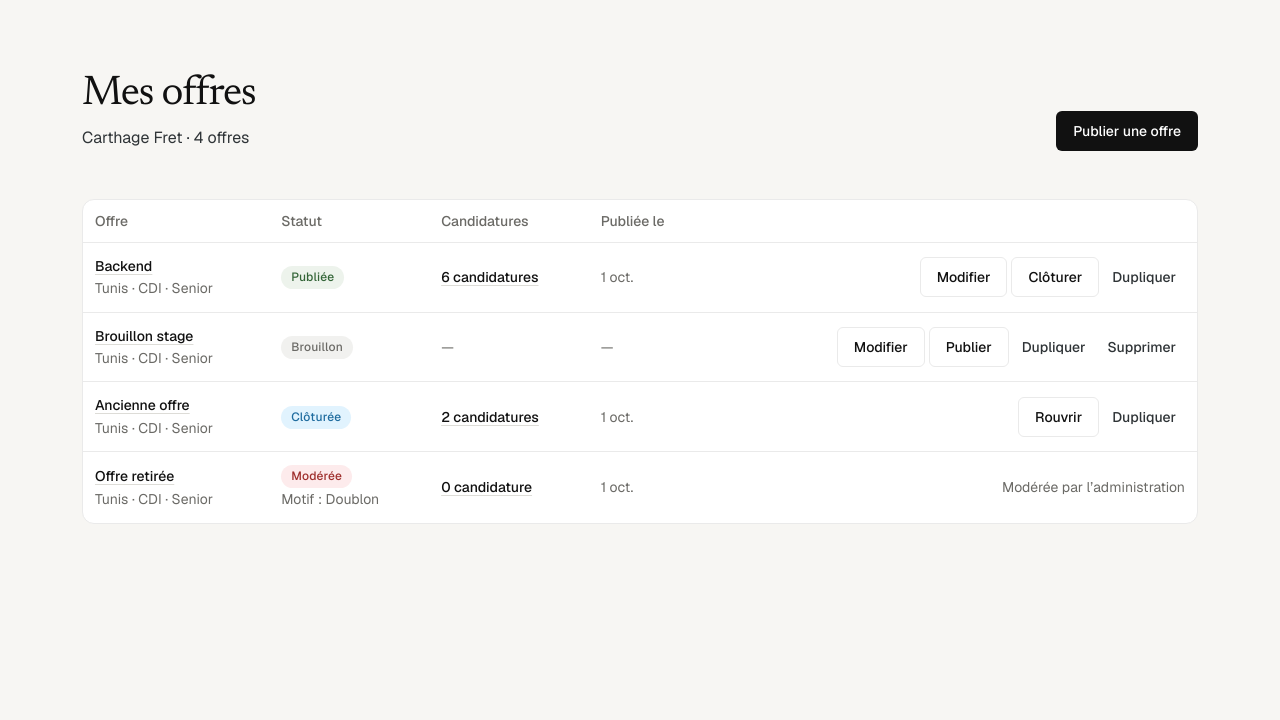
Scenario: "Mes offres" › changes the status in place and confirms
Click the button "Clôturer" at [1055, 277], box [1011,257,1099,297]
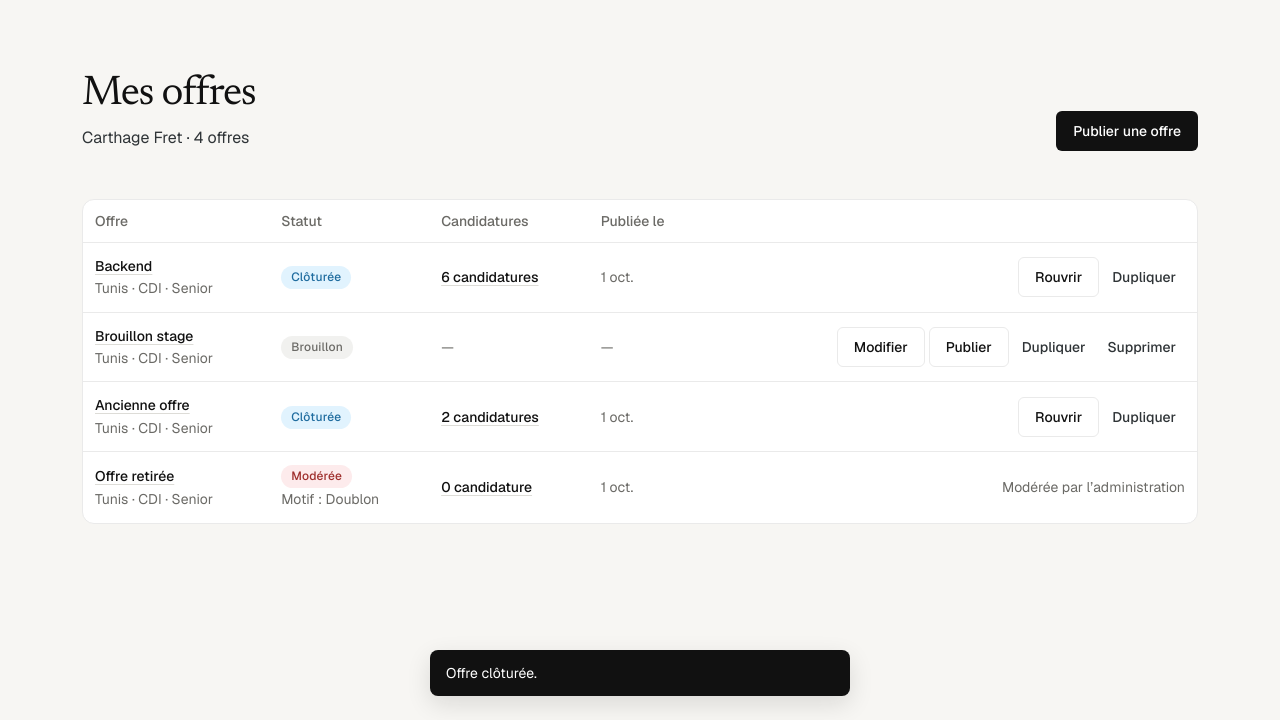
Expected: the link "6 candidatures" is shown, [441,268,538,286]
Expected: the text "Offre clôturée." is shown, [430,650,850,696]
Expected: the text "Clôturée" in the row of "Backend" is shown, [291,269,341,285]
